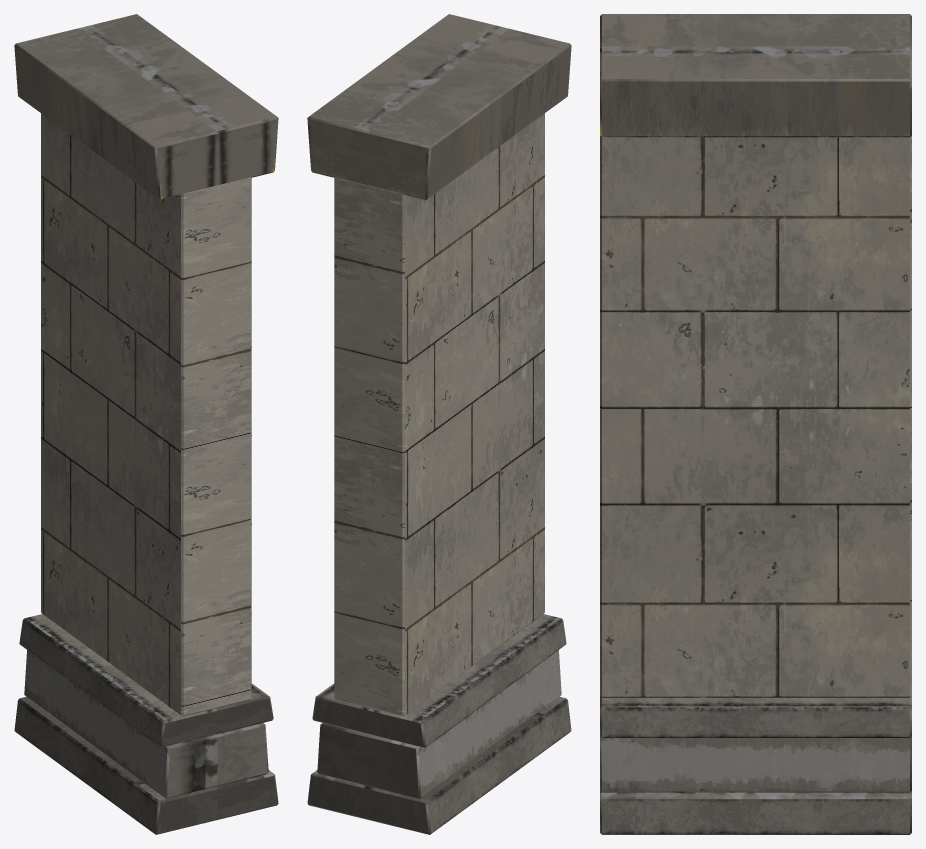
Rendered from SM_Church_Wall_BaseHalf.fbx.
3 views of the same model, side by side, from view 1: azimuth 30°, elevation 25°; view 2: azimuth 150°, elevation 25°; view 3: azimuth 270°, elevation 25° (orthographic). The views are drawn at different scales.
Parts seen in each view (by area): view 1: SM_Wall_Base_Half; view 2: SM_Wall_Base_Half; view 3: SM_Wall_Base_Half.
Boxes of the visible parts, box(x1,y1,x2,y2) form: SM_Wall_Base_Half: box(14, 14, 278, 834); SM_Wall_Base_Half: box(307, 14, 571, 834); SM_Wall_Base_Half: box(600, 14, 911, 834).
Size of the model in its own units: 1.52 by 8.04 by 3.
